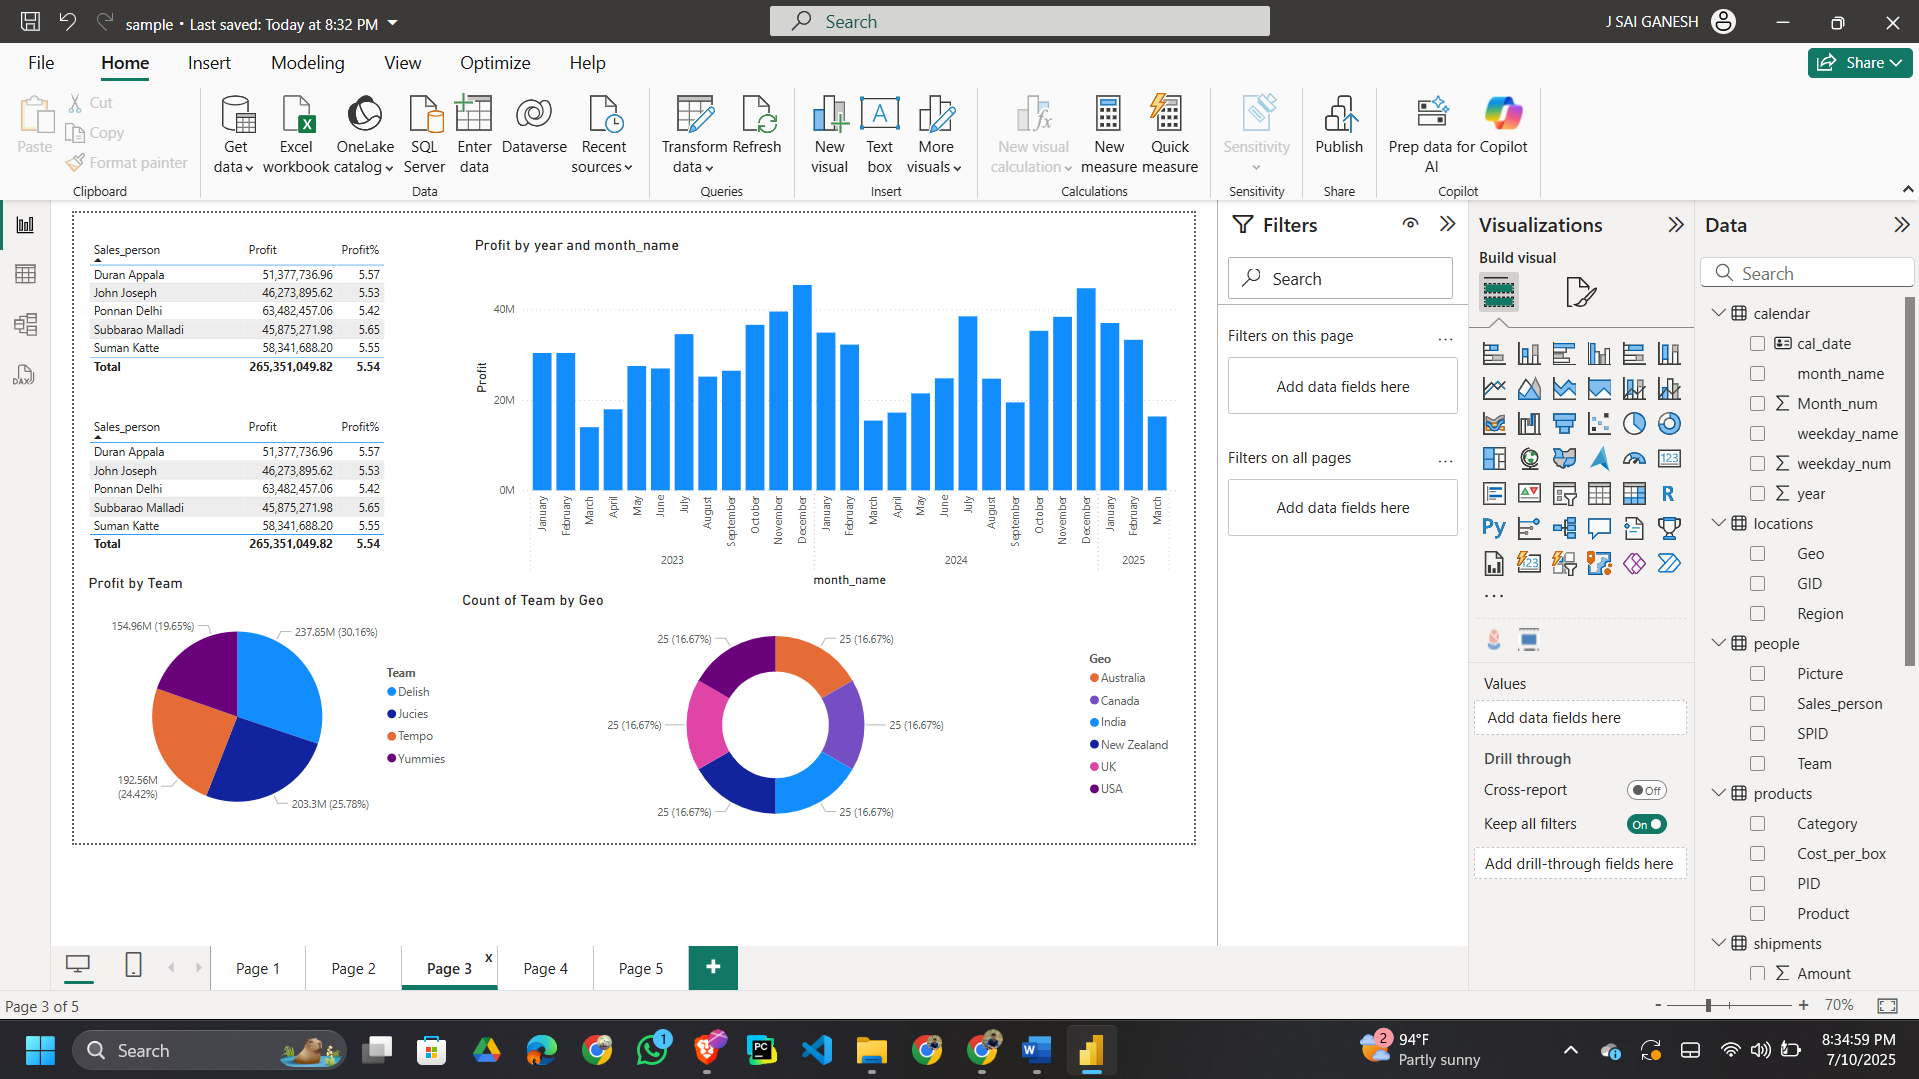

What the dashboard file says about the page in this screenshot:
{"tool":"powerbi","page":{"name":"Page 3","canvas":[1280,720],"ordinal":2},"visuals":[{"type":"clusteredColumnChart","fields":{"Category":["calendar.year","calendar.month_name"],"Y":["shipments.profit"]},"box":[452.4,25.7,812,407.2],"z":0},{"type":"tableEx","fields":{"Values":["people.Sales_person","shipments.profit","shipments.profit percentage"]},"box":[11.7,228.3,440,203.3],"z":1000},{"type":"tableEx","fields":{"Values":["people.Sales_person","shipments.profit","shipments.profit percentage"]},"box":[11.7,25,440,203.3],"z":2000},{"type":"pieChart","fields":{"Y":["shipments.profit"],"Series":["people.Team"]},"box":[11.7,413.3,426.7,306.7],"z":3000},{"type":"donutChart","fields":{"Y":["CountNonNull(people.Team)"],"Series":["locations.Geo"]},"box":[438.3,431.7,826.7,288.3],"z":4000}]}

Visuals, with their boxes on the page's 1280x720 design canvas (x1, y1, x2, y2). These are canvas units, not pixel positions in the 1919x1079 screenshot, which may show the page scaled, cropped or inside an application window:
clusteredColumnChart - calendar.year x calendar.month_name: 452,26,1264,433
tableEx - people.Sales_person x shipments.profit: 12,228,452,432
tableEx - people.Sales_person x shipments.profit: 12,25,452,228
pieChart - shipments.profit x people.Team: 12,413,438,720
donutChart - CountNonNull(people.Team) x locations.Geo: 438,432,1265,720
